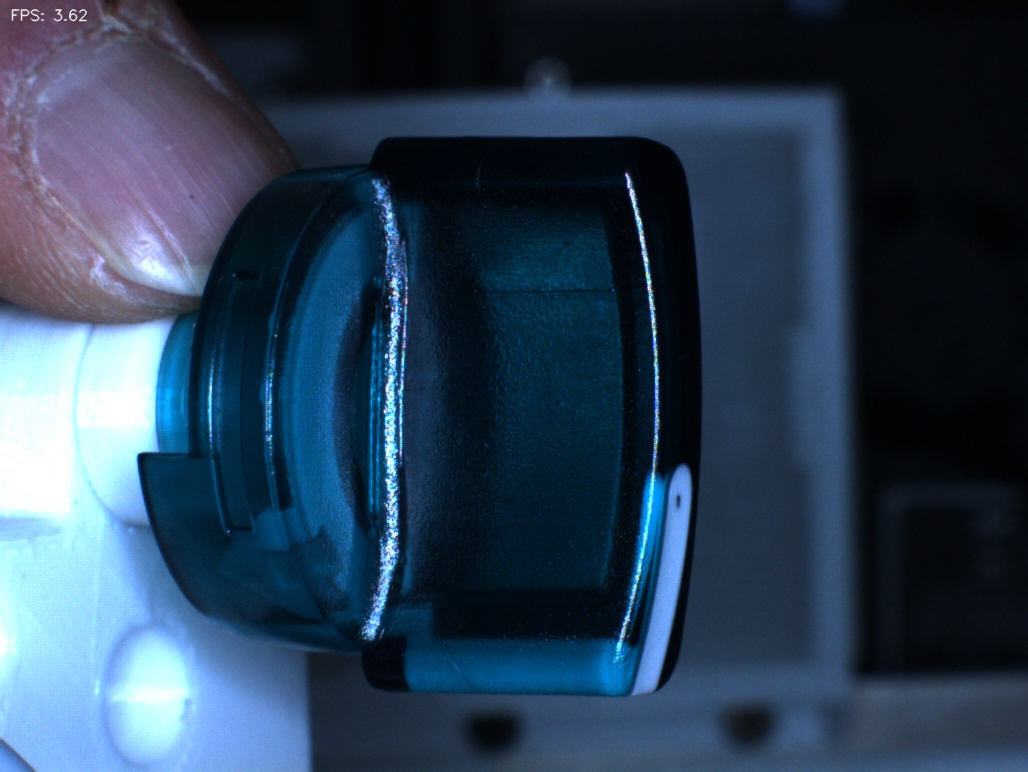PointNoir: (642, 448, 723, 545)
